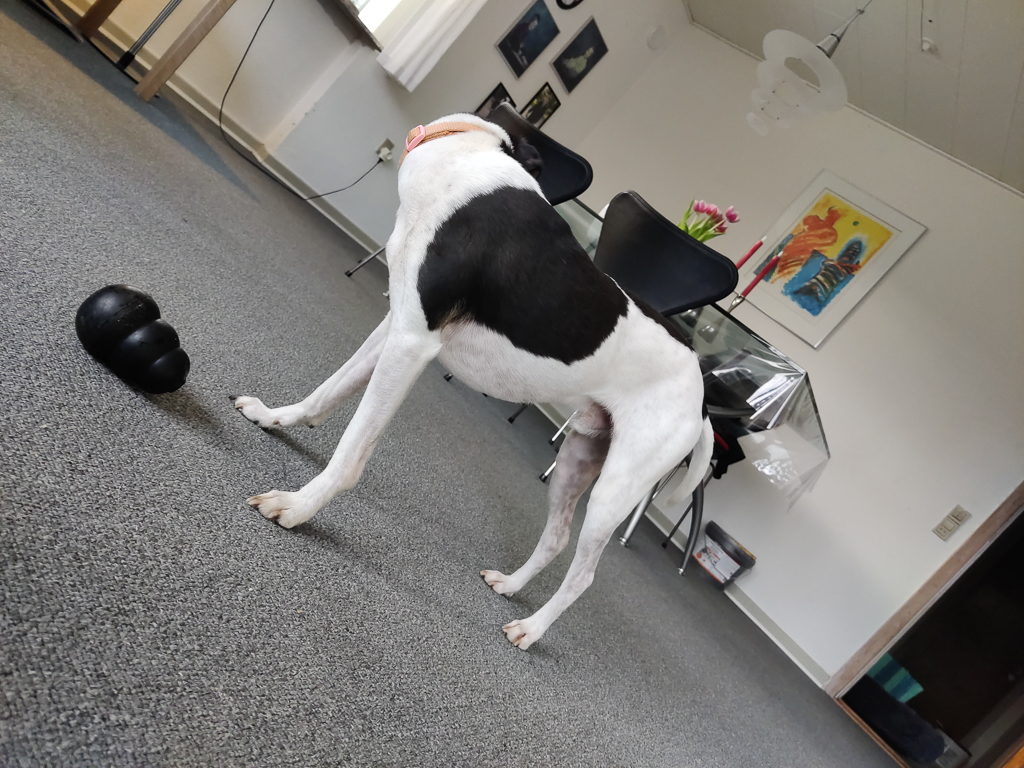Dog: (212, 87, 740, 656)
